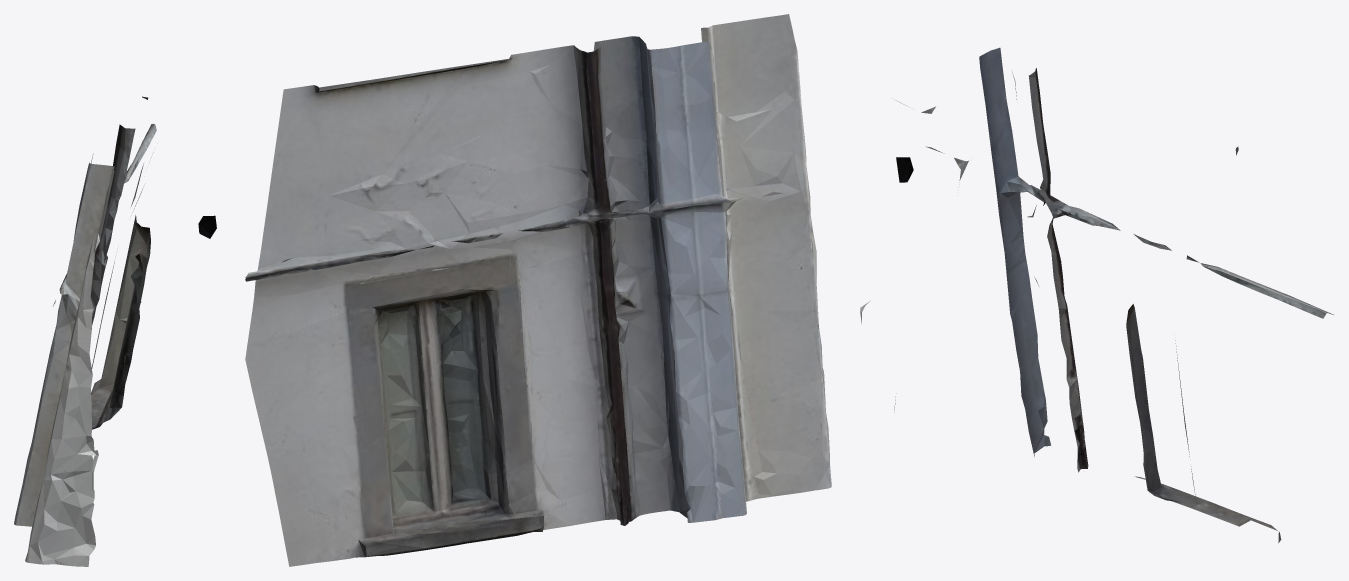
The picture shows the model from 3 angles, left to right: view 1: azimuth 30°, elevation 25°; view 2: azimuth 150°, elevation 25°; view 3: azimuth 270°, elevation 25°; orthographic projection. The views are drawn at different scales.
Size of the model in its own units: 2.95 by 3.35 by 3.35.
4 materials, 4 textured.
